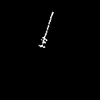treble_crochet: (39, 12, 52, 47)
